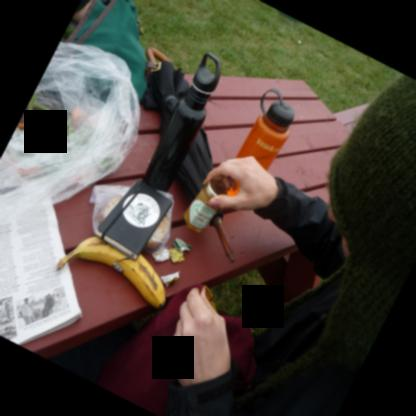handbag: (61, 0, 147, 103)
